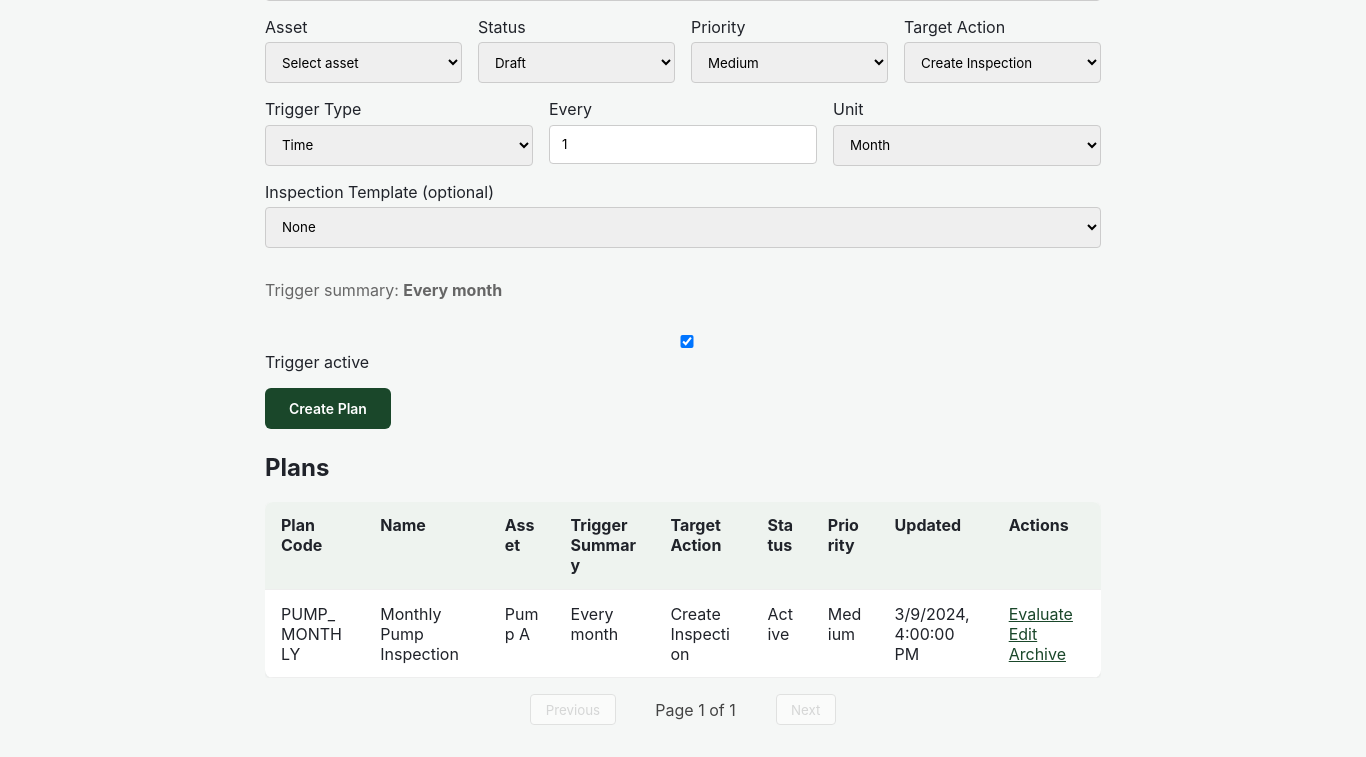
Test: PreventiveMaintenancePlansPage › loads plan details when editing
(page scrolled)
Expected: the text "PUMP_MONTHLY" is shown, [265,590,364,678]
Click the button "Edit" at (1023, 634), box [1009,624,1037,644]
(page scrolled)
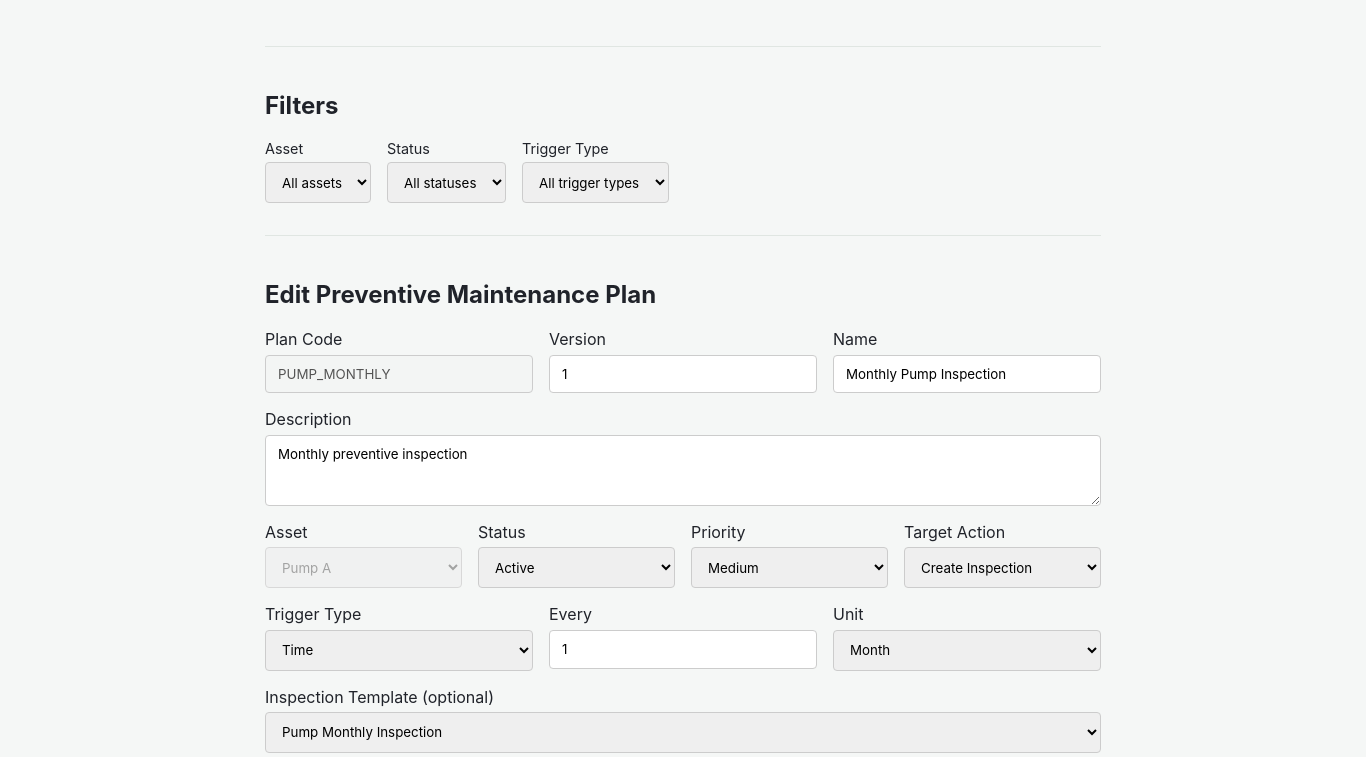
Now the field labelled "Plan Code" is disabled, box [265,355,533,393]
